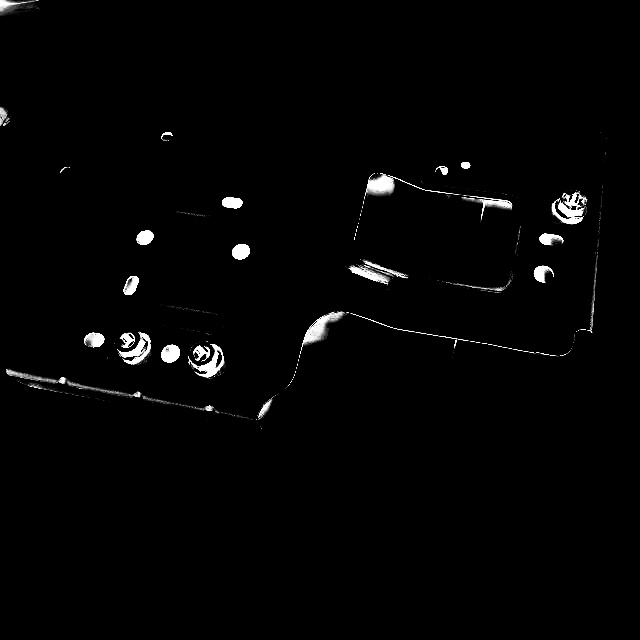dog: (112, 327, 154, 367), (186, 338, 226, 380), (550, 188, 590, 225)
